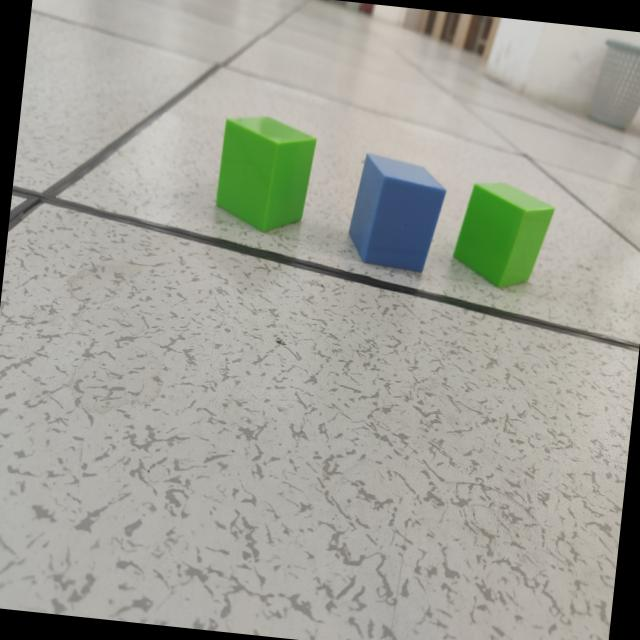blue: (346, 154, 447, 277)
green: (214, 117, 316, 233), (453, 182, 554, 290)
